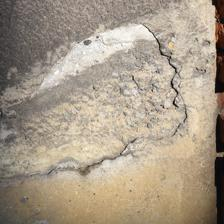Crack: (44, 35, 139, 89), (68, 22, 113, 130), (51, 66, 77, 105)
